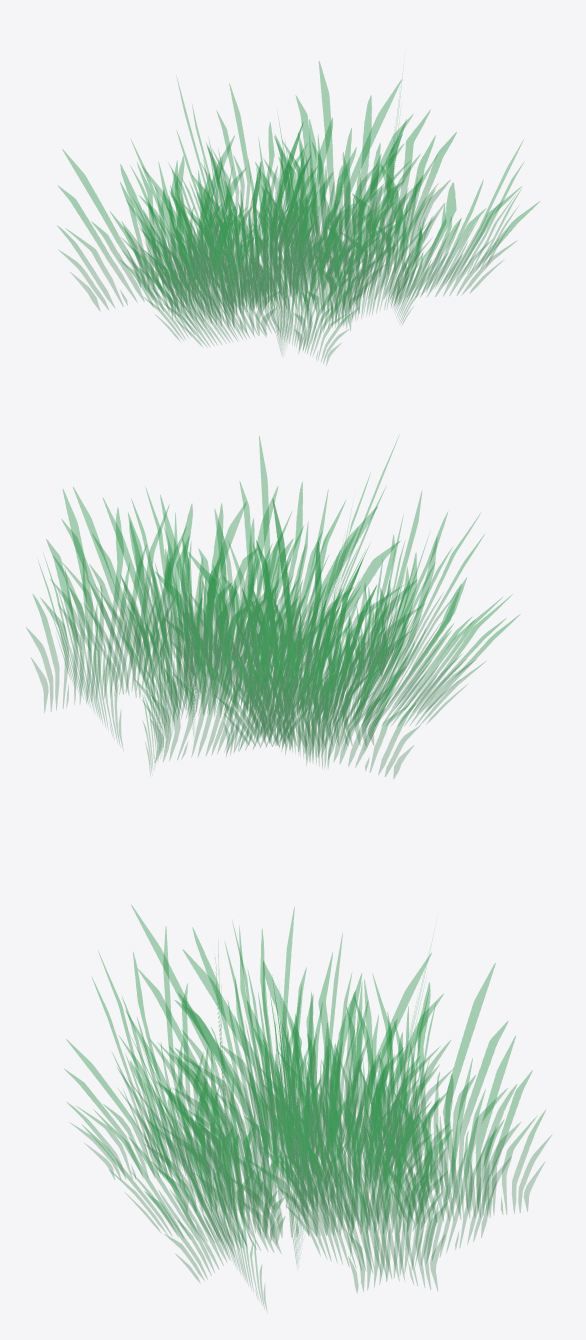
Rendered from PT_Grass_02.glb.
3 views of the same model, one above another, from view 1: azimuth 30°, elevation 25°; view 2: azimuth 150°, elevation 25°; view 3: azimuth 270°, elevation 25° (orthographic). The views are drawn at different scales.
Visible parts, largest first — view 1: PT_Grass_02_LOD0; view 2: PT_Grass_02_LOD0; view 3: PT_Grass_02_LOD0.
Boxes of the visible parts, x1=… form: PT_Grass_02_LOD0: x1=57, y1=61, x2=539, y2=364; PT_Grass_02_LOD0: x1=26, y1=436, x2=519, y2=778; PT_Grass_02_LOD0: x1=64, y1=905, x2=551, y2=1309.
Bounding box in the file's own units: 1.24 × 0.6842 × 0.9938.
1 material, 1 textured.
